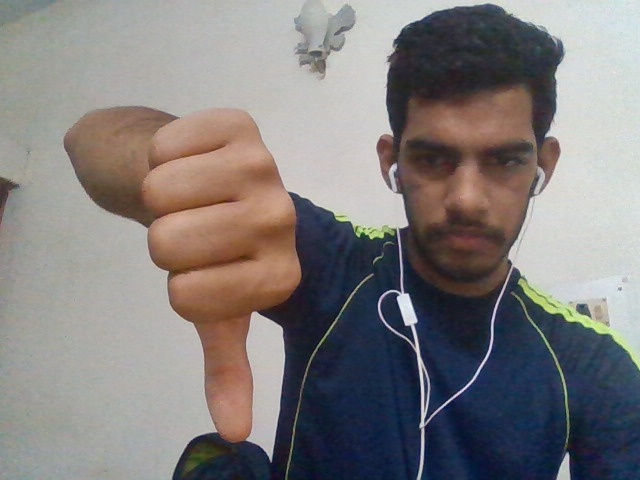no: (109, 91, 311, 450)
